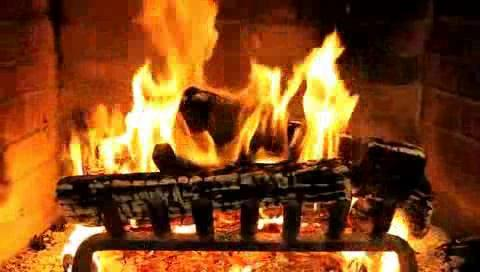fire: (117, 12, 362, 170)
